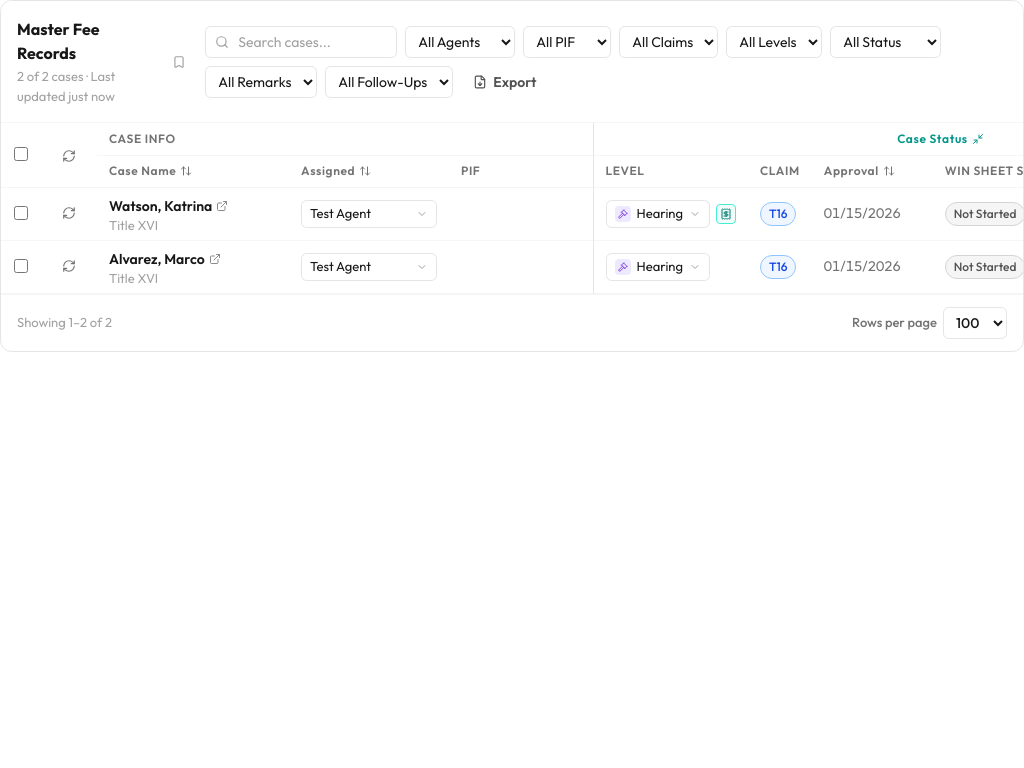
Test: FeeRecordsTable — Add to Fee Petitions batch action › tells you in the dialog which selected cases are being left alone
The image size is (1024, 768).
Click the checkbox named "Select Watson, Katrina". click: click(21, 212)
box: [14,206,28,220]
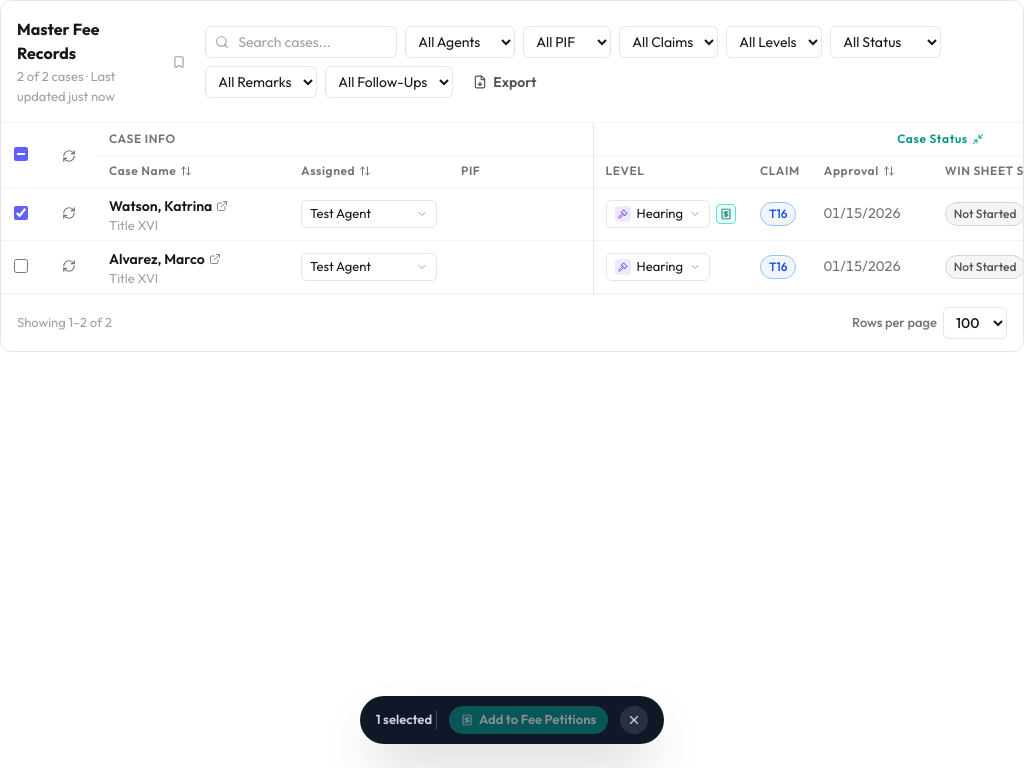
Click the checkbox named "Select Alvarez, Marco". click: click(21, 266)
box: [14,258,28,272]
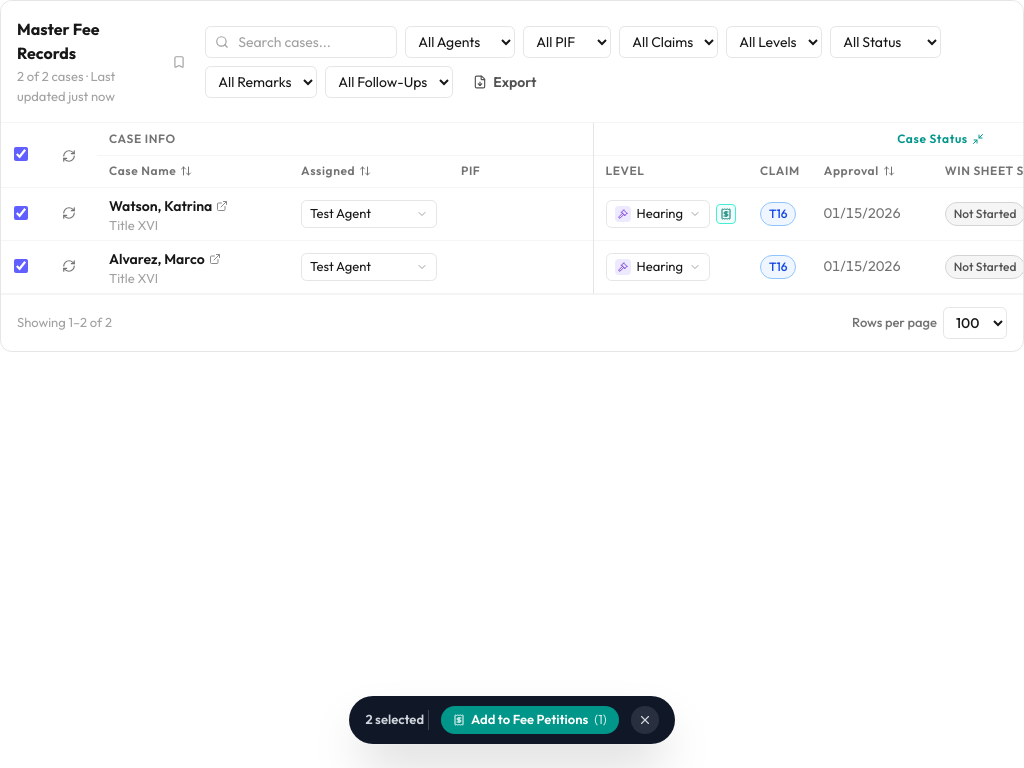
Click the button "Add to Fee Petitions (1)". click: click(530, 720)
box: [441,706,619,734]
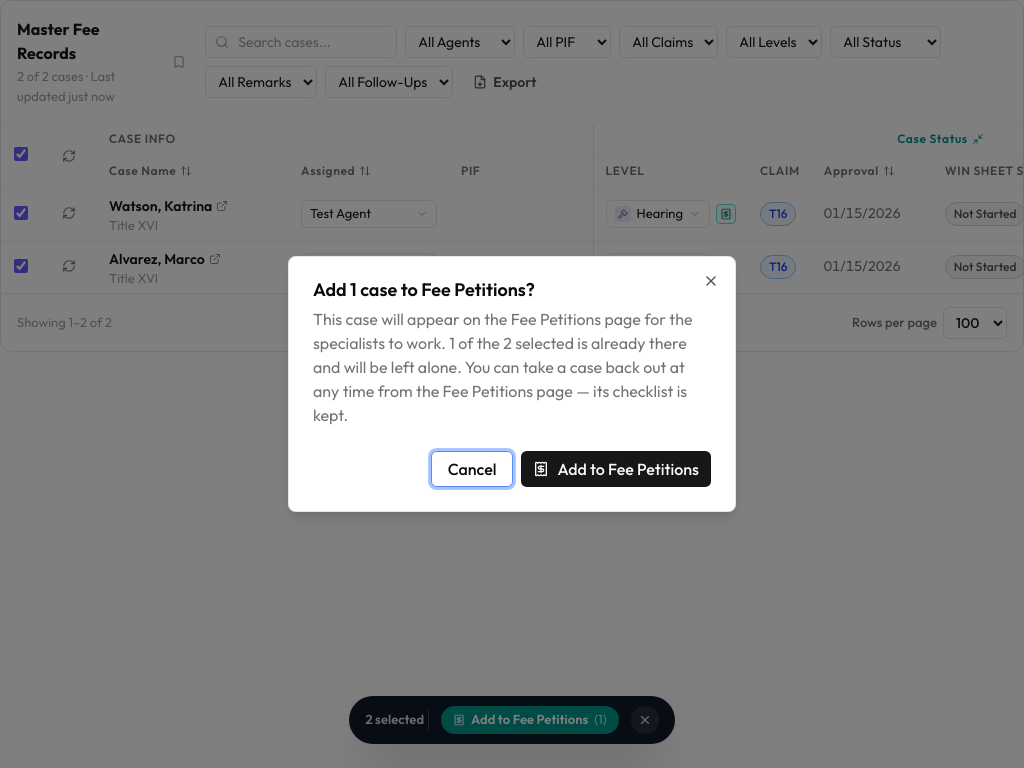
Expected: the dialog shows "1 of the 2 selected is already there", [313,333,687,377]
